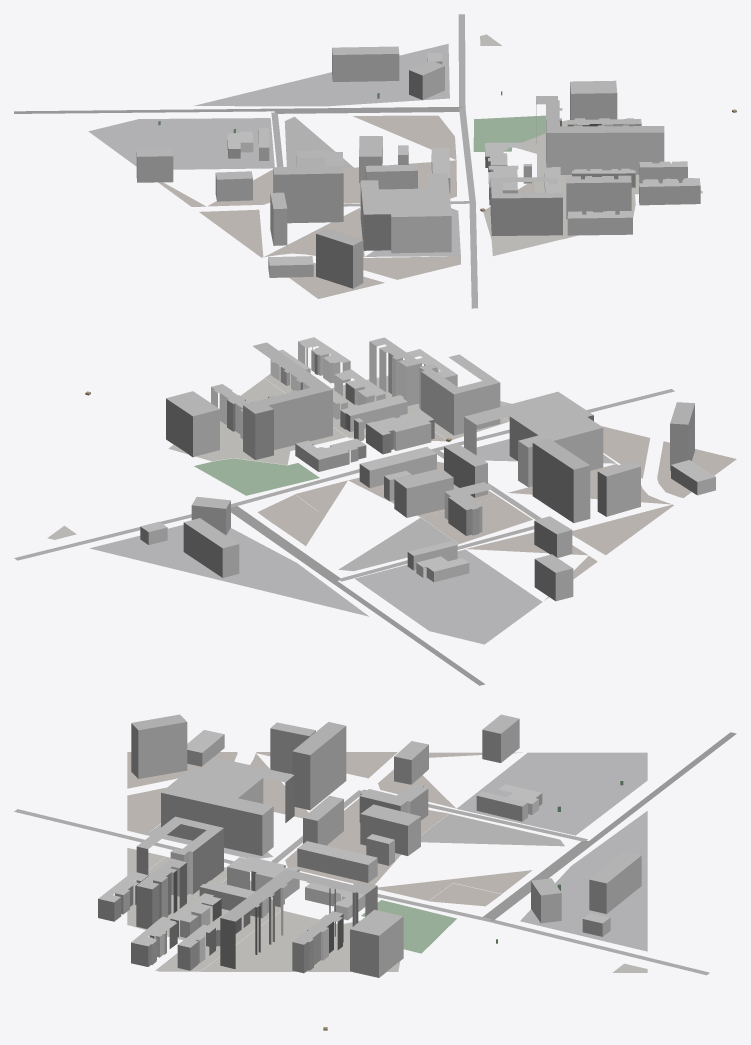
3 views of the same model, one above another, from view 1: azimuth 30°, elevation 25°; view 2: azimuth 150°, elevation 25°; view 3: azimuth 270°, elevation 25° (orthographic). The views are drawn at different scales.
Size of the model in its own units: 681 by 59.3 by 695.
